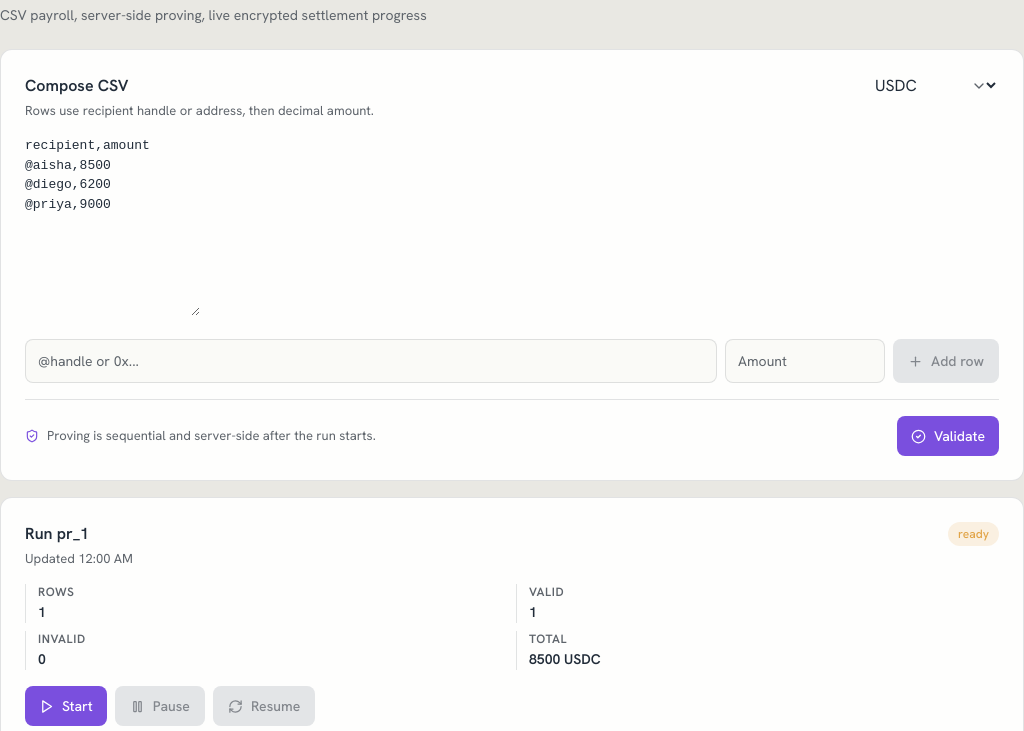
Test: Payroll › surfaces treasury_underfunded with the shortfall and treasury link
Click the button with test id "start-payroll": (66, 706) [25,686,107,726]
(page scrolled)
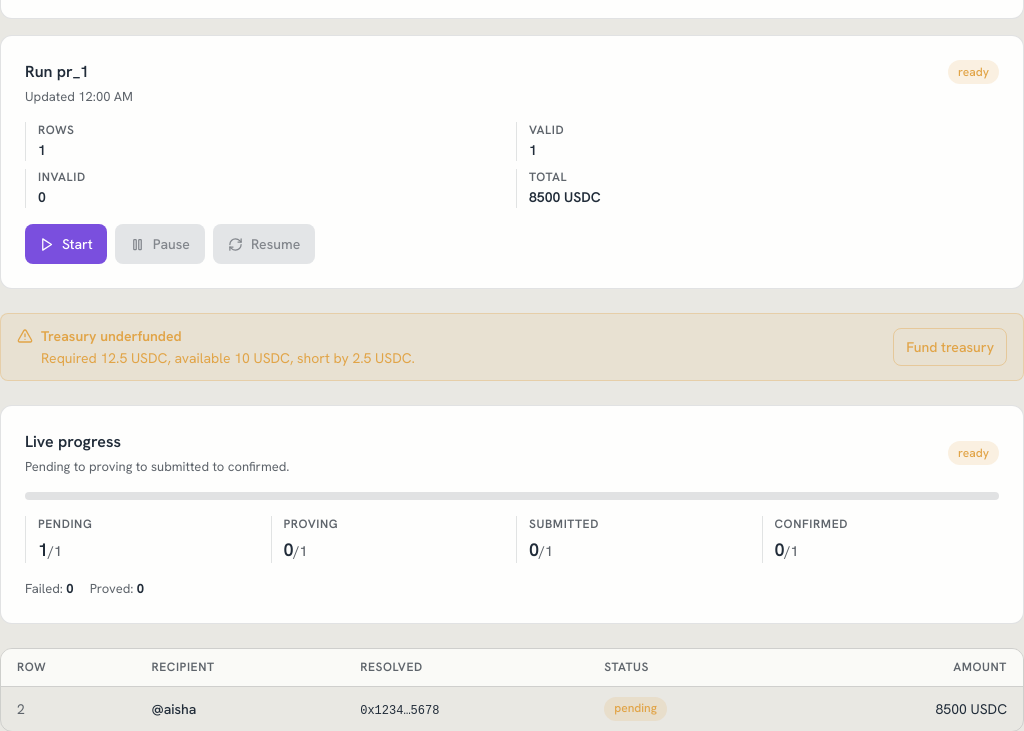
Check: the element with test id "underfunded-alert" shows "short by 2.5 USDC", box [290,349,412,367]
